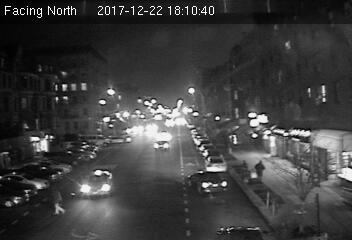car: (79, 169, 112, 197), (189, 171, 229, 194), (205, 155, 229, 173), (152, 139, 171, 151)
pedestrian: (47, 183, 67, 218), (254, 159, 266, 184)
